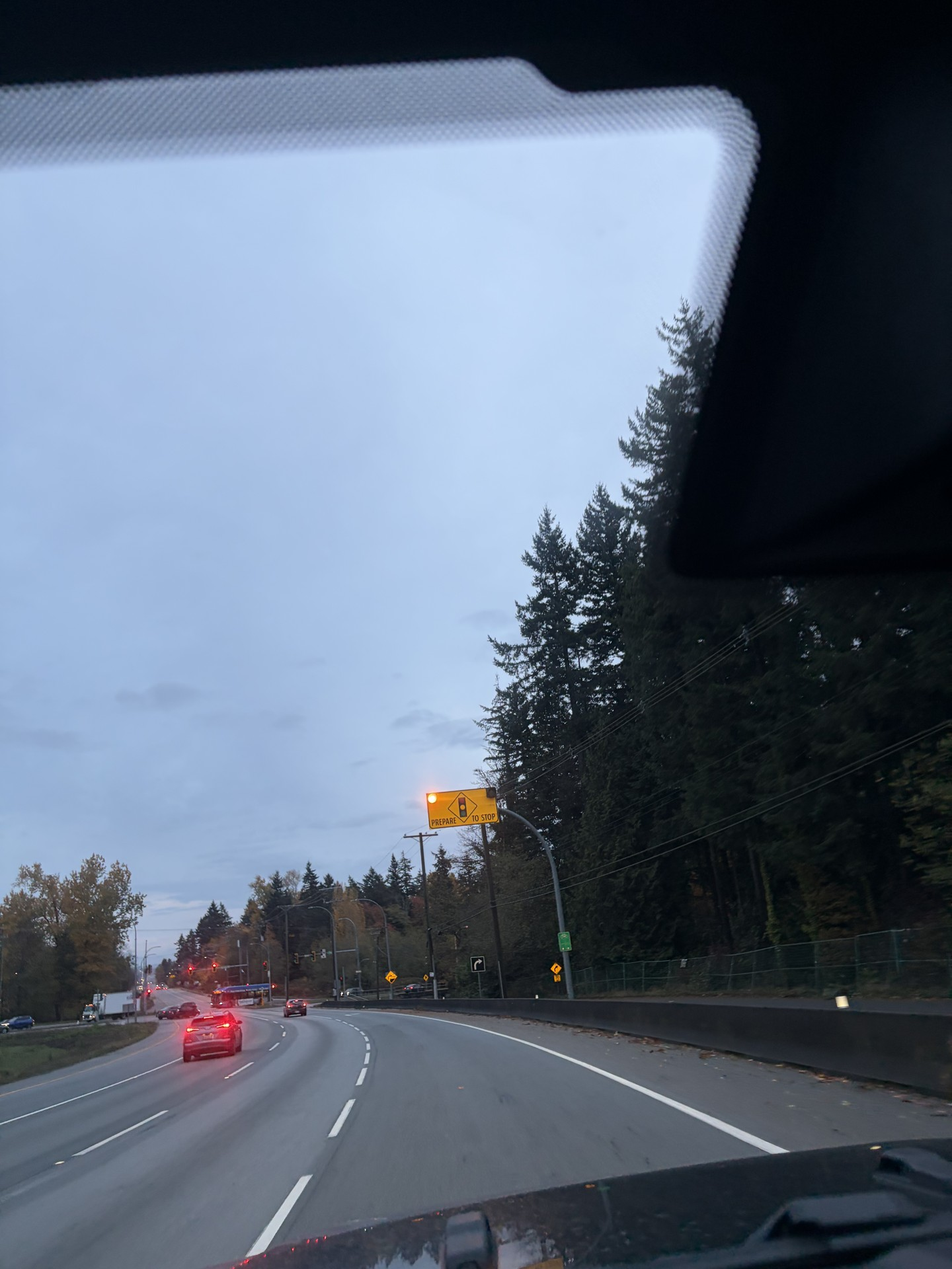signal_ahead: (401, 752, 519, 842)
